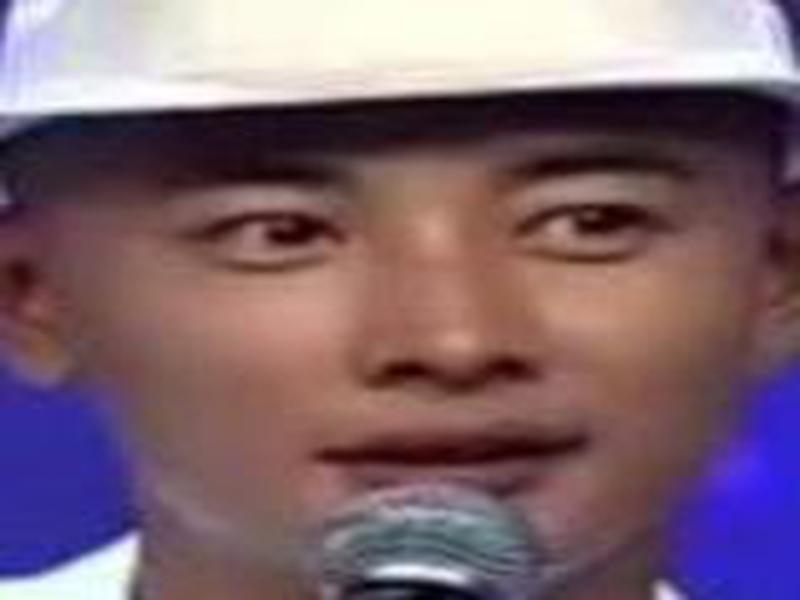without_mask: (49, 106, 763, 585)
